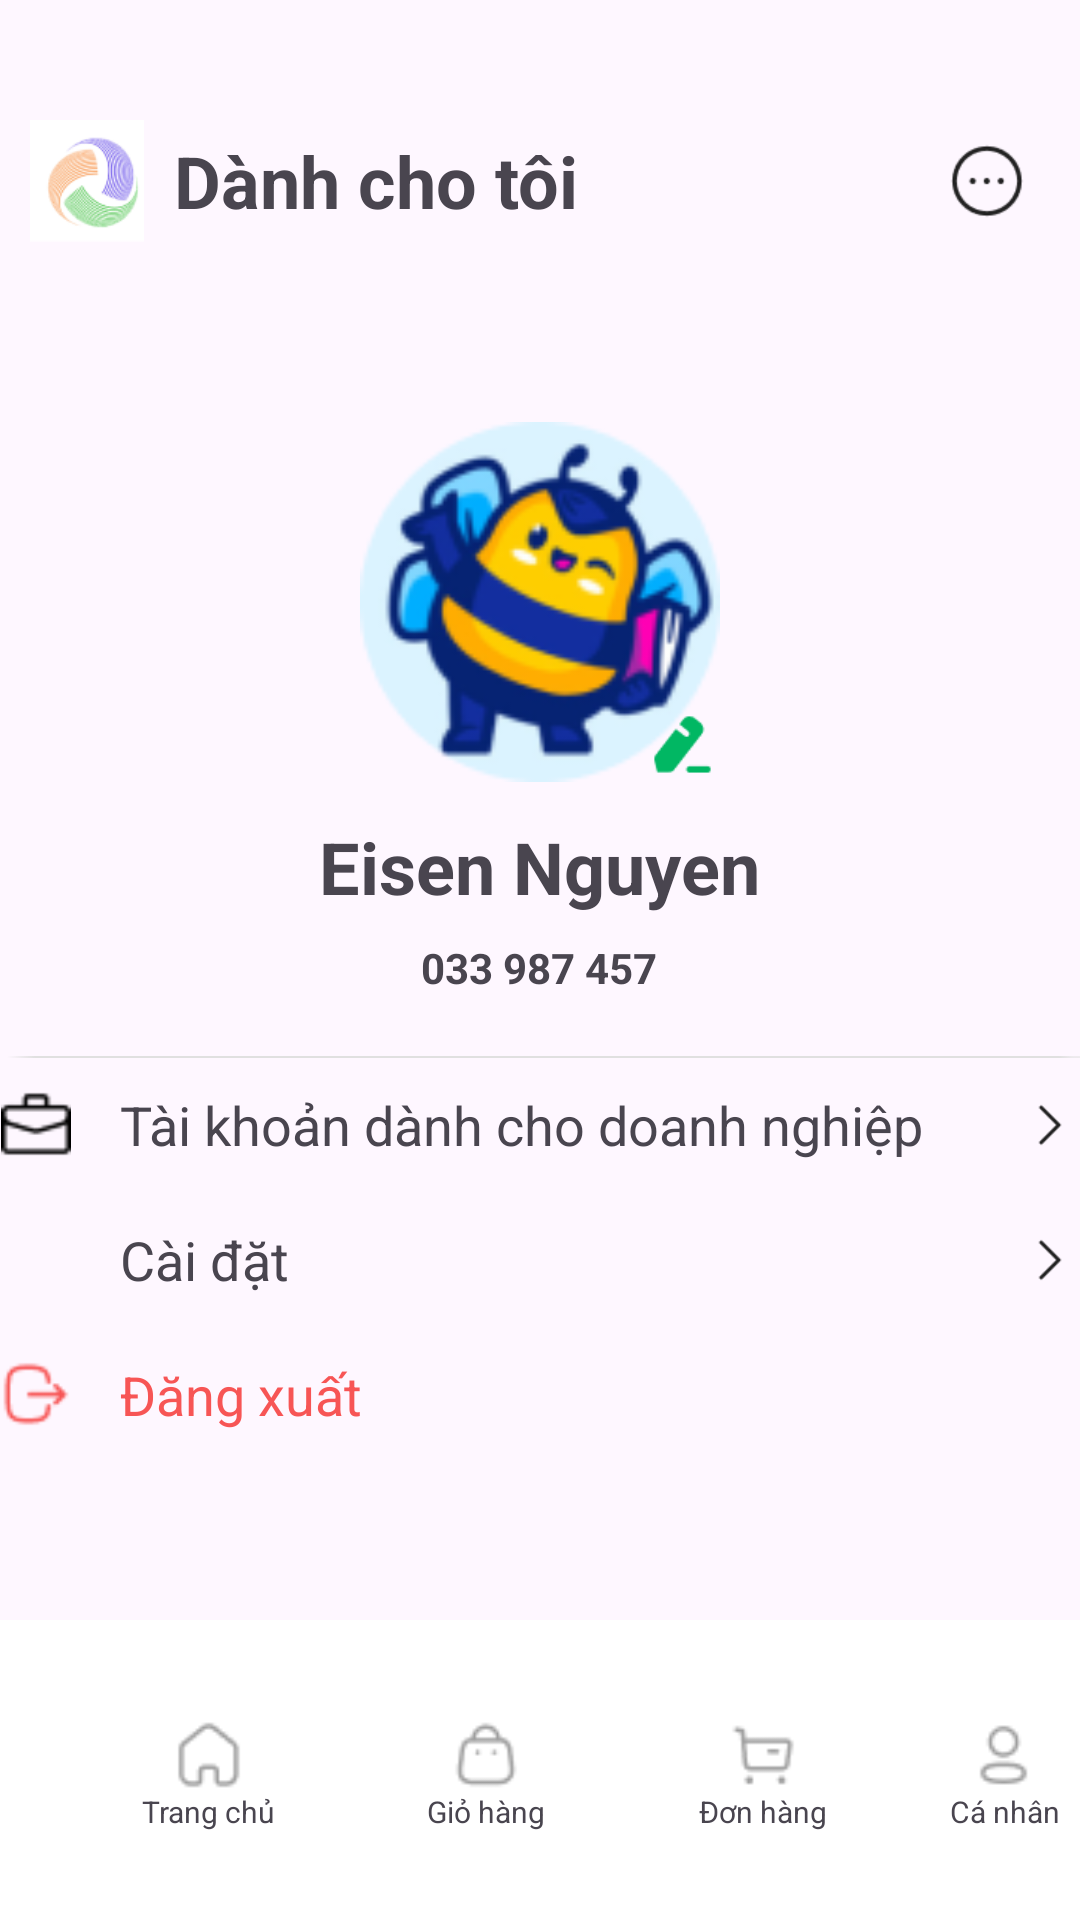

Screen size 1080 x 1920. Icon name, then its center in pixels as point (x, y):
bag: point (486, 1754)
buy: point (763, 1755)
choose arrow: point (1050, 1125), point (1050, 1260)
option: point (987, 181)
work: point (36, 1124)
